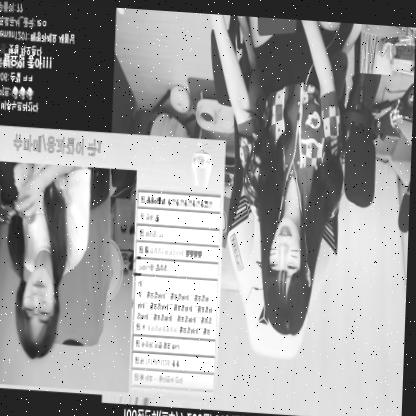donation: (0, 52, 53, 71)
streamer: (175, 10, 350, 335)
